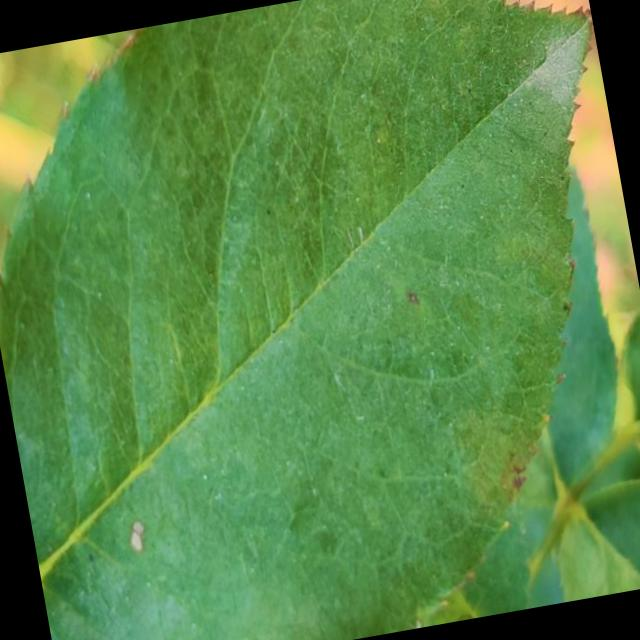Black_spot: (122, 514, 152, 554)
Rose: (0, 0, 640, 640)
